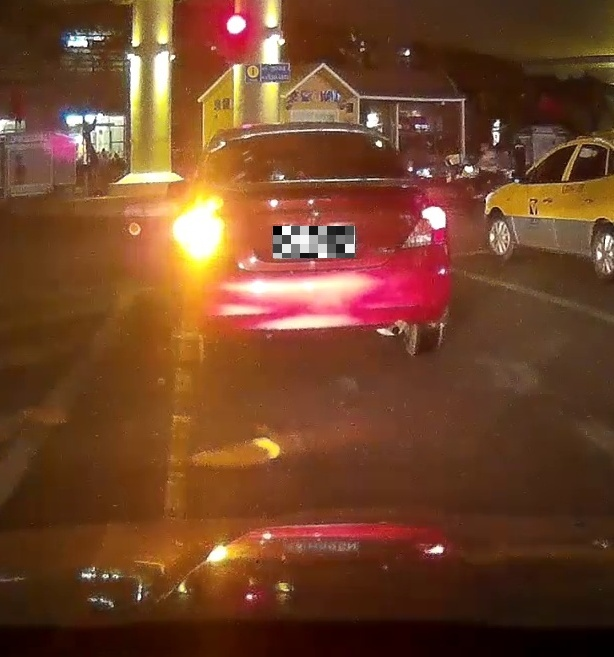L_light: (182, 215, 222, 256)
R_light: (399, 205, 446, 250)
T_light: (291, 131, 332, 143)
night-left: (170, 121, 450, 362)
plate_1: (273, 226, 355, 258)
